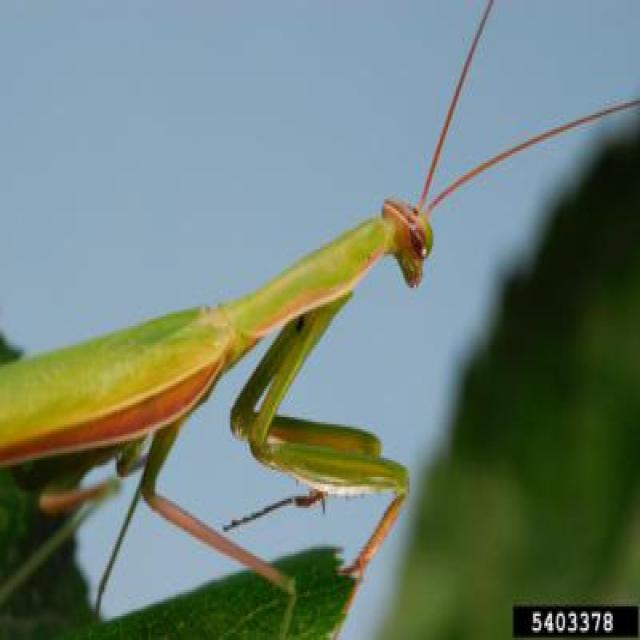antennae: (421, 105, 640, 211), (414, 0, 500, 211)
body: (0, 203, 431, 468)
insect: (0, 1, 638, 640)
legs: (247, 297, 411, 582), (148, 413, 302, 638), (231, 315, 382, 528), (0, 437, 129, 600)
mouthpart: (399, 266, 428, 290)
wings: (0, 306, 226, 462)
